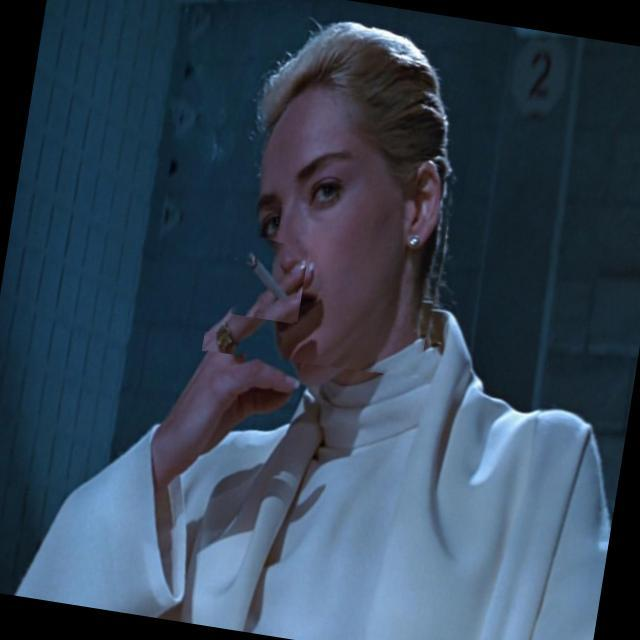cigarette: (226, 233, 310, 325)
